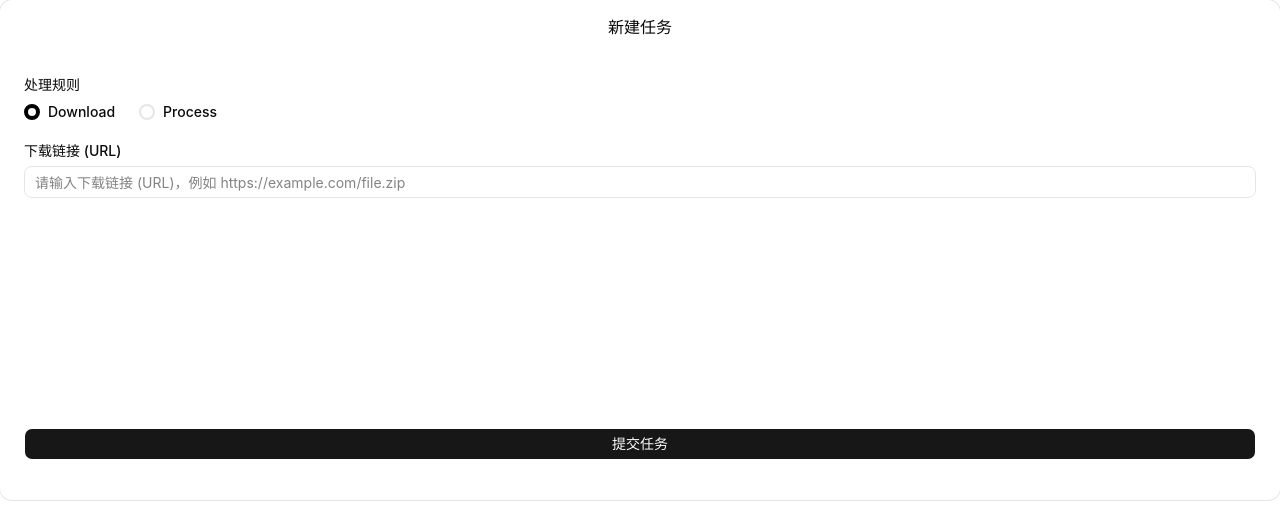
Test: TaskForm › should render download form when changing to Download radio
Click the radio button named "Process" next to "Process" at x=147, y=112, box [139,104,155,120]
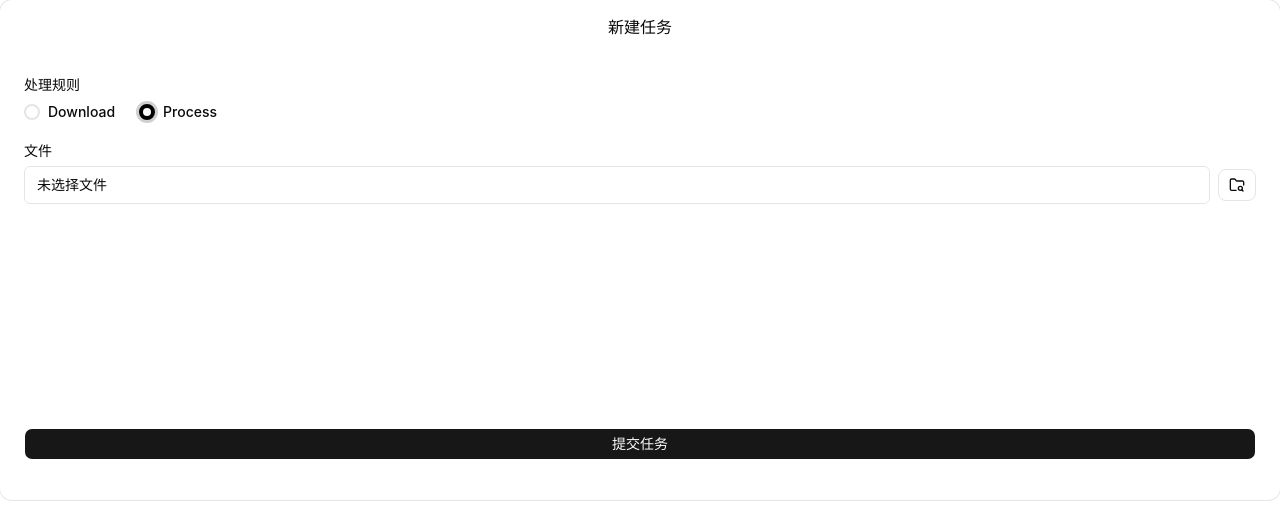
Check: the text "未选择文件" is shown, box [37,175,107,195]
Click the radio button named "Download" next to "Download" at x=32, y=112, box [24,104,40,120]
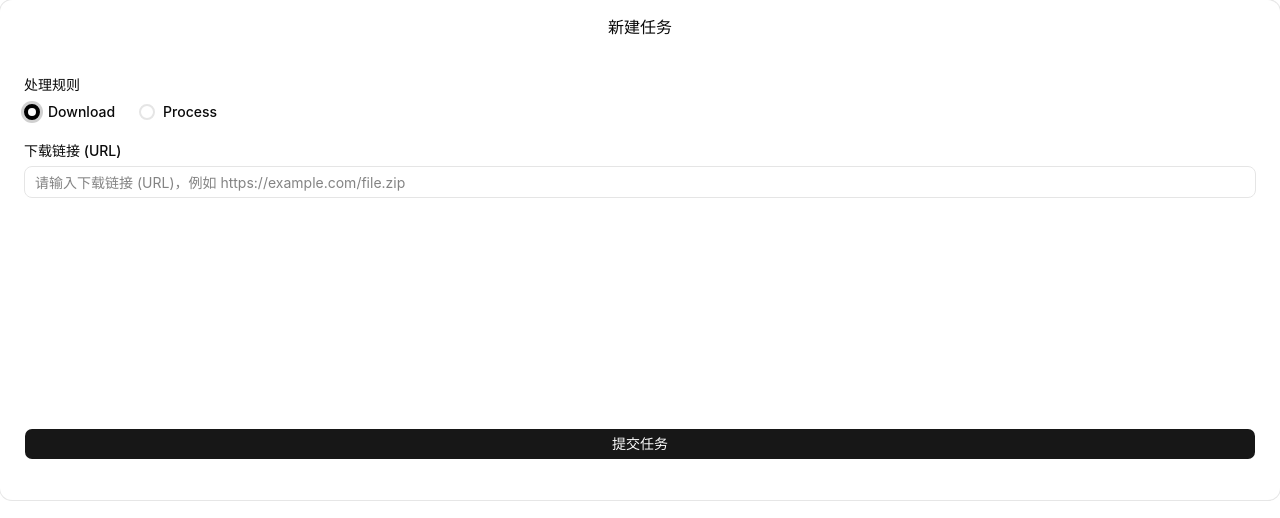
Check: the button "提交任务" is shown, box [24,428,1256,460]
Check: the field with placeholder "请输入下载链接 (URL)，例如 https://example.com/file.zip" is shown, box [24,166,1256,198]
